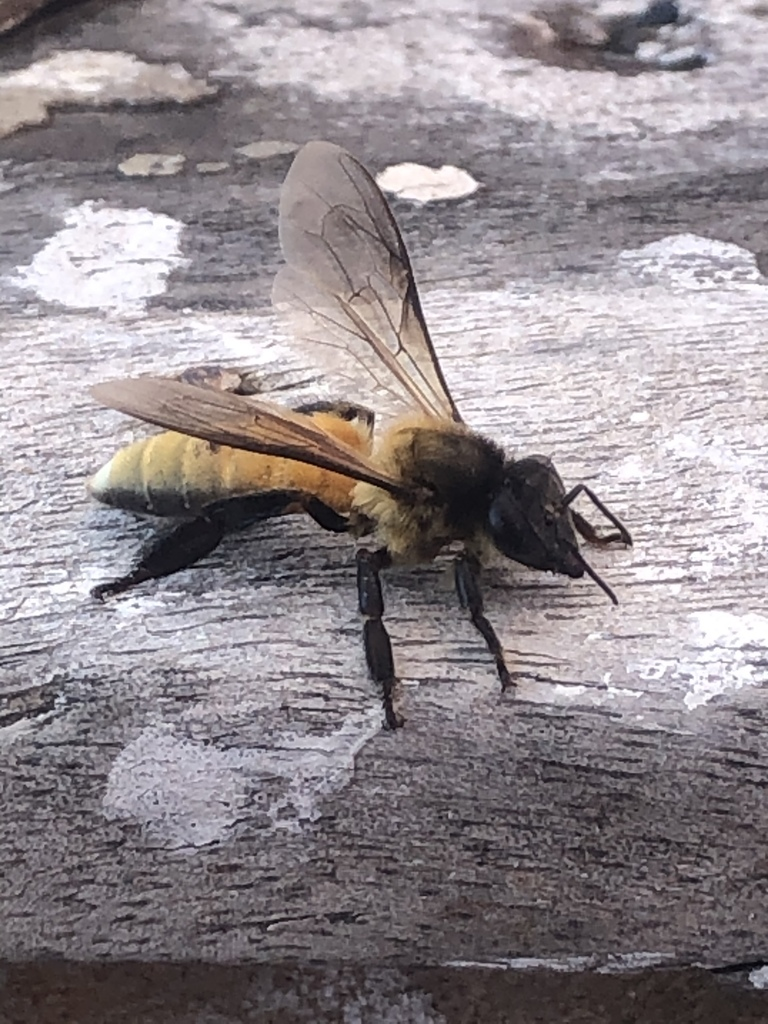honeybee: (85, 141, 634, 732)
